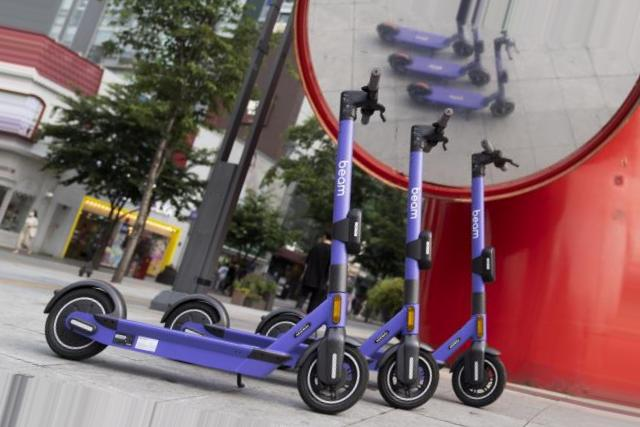scooter: (43, 65, 389, 416), (408, 33, 517, 119)
